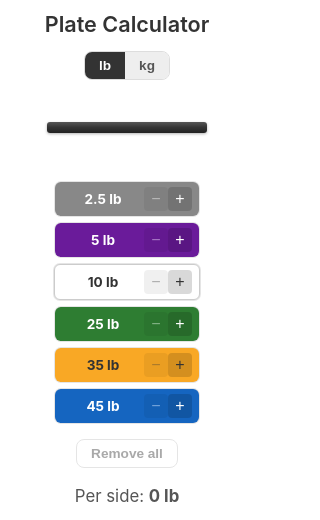
Test case: TC-08: Remove All is disabled with no plates and clears plates when clicked
Expected: the button with aria-label "Remove all plates" is disabled, [76,439,178,468]
B: Add a plate — button should become enabled
Click the button named "Add 45 lb".
click(180, 406)  # box [168,394,192,418]
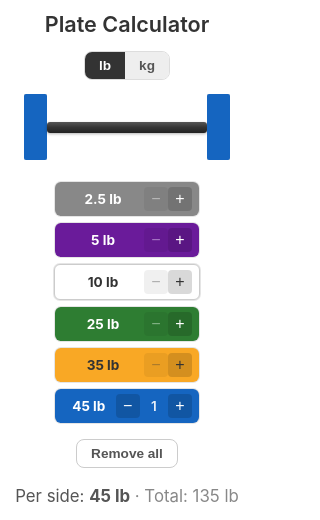
Now the button with aria-label "Remove all plates" is enabled
Click the button with aria-label "Remove all plates".
click(127, 454)  # box [76,439,178,468]
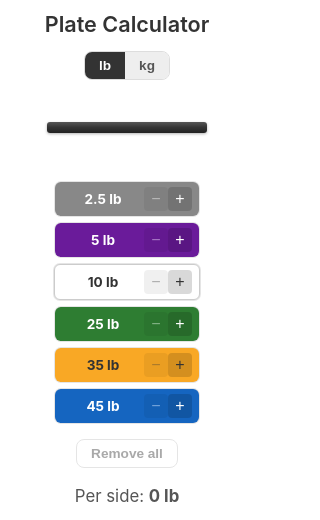
Now the text "Total:" is gone
Now the button with aria-label "Remove all plates" is disabled, box [76,439,178,468]
